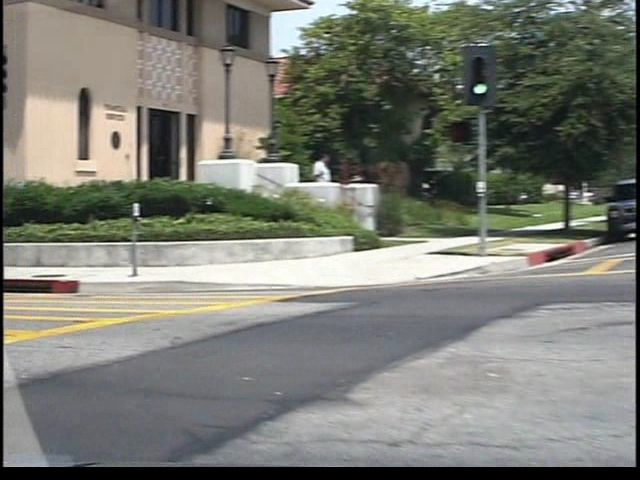person: (297, 150, 320, 220)
